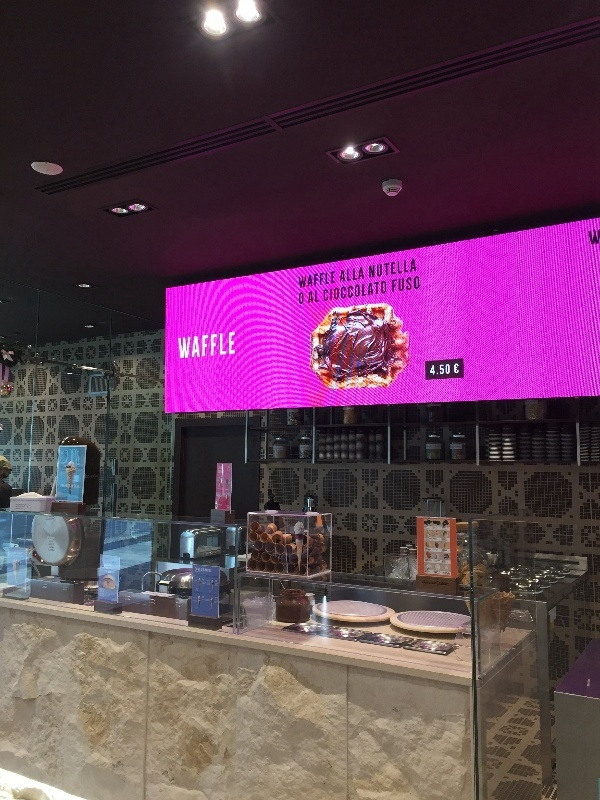text: (193, 333, 208, 359), (209, 333, 224, 359), (178, 333, 192, 359), (337, 281, 352, 302), (353, 281, 368, 302), (369, 281, 384, 302), (225, 333, 236, 359), (369, 260, 384, 279), (385, 260, 400, 279), (401, 260, 416, 279), (401, 276, 416, 293), (324, 281, 336, 302), (305, 272, 320, 288), (321, 272, 336, 288), (433, 363, 448, 376), (353, 267, 364, 282), (342, 267, 352, 282), (309, 290, 320, 303), (392, 276, 400, 293), (449, 363, 459, 376), (593, 227, 600, 245), (299, 272, 304, 288), (195, 567, 208, 573), (588, 227, 592, 245), (65, 484, 81, 488), (299, 293, 304, 305), (417, 276, 420, 293), (385, 281, 387, 302), (209, 567, 212, 573), (61, 484, 64, 488)
